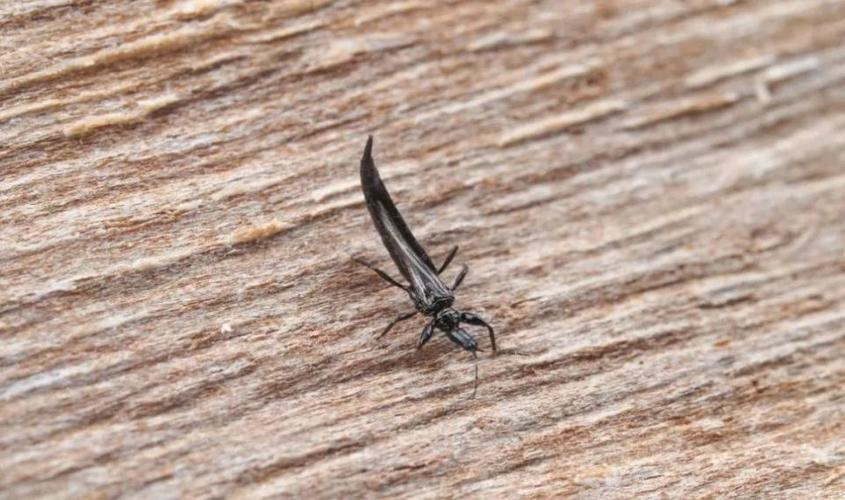Phlaeothripidae: (346, 136, 499, 397)
